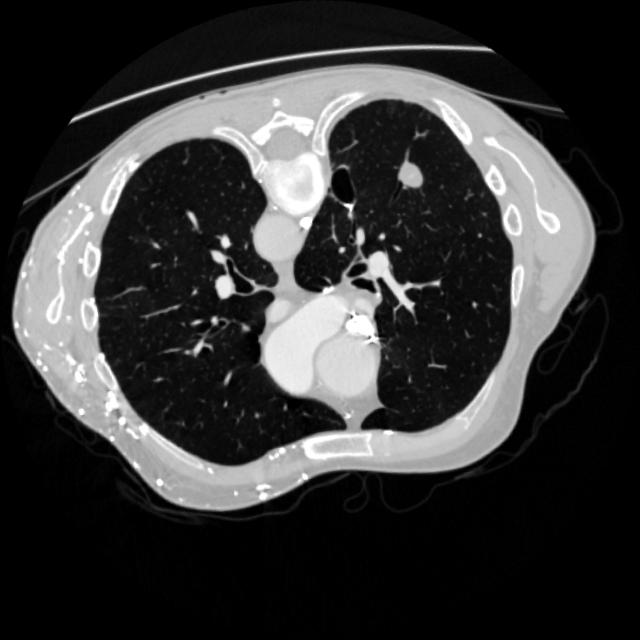nodule: (380, 144, 442, 206)
